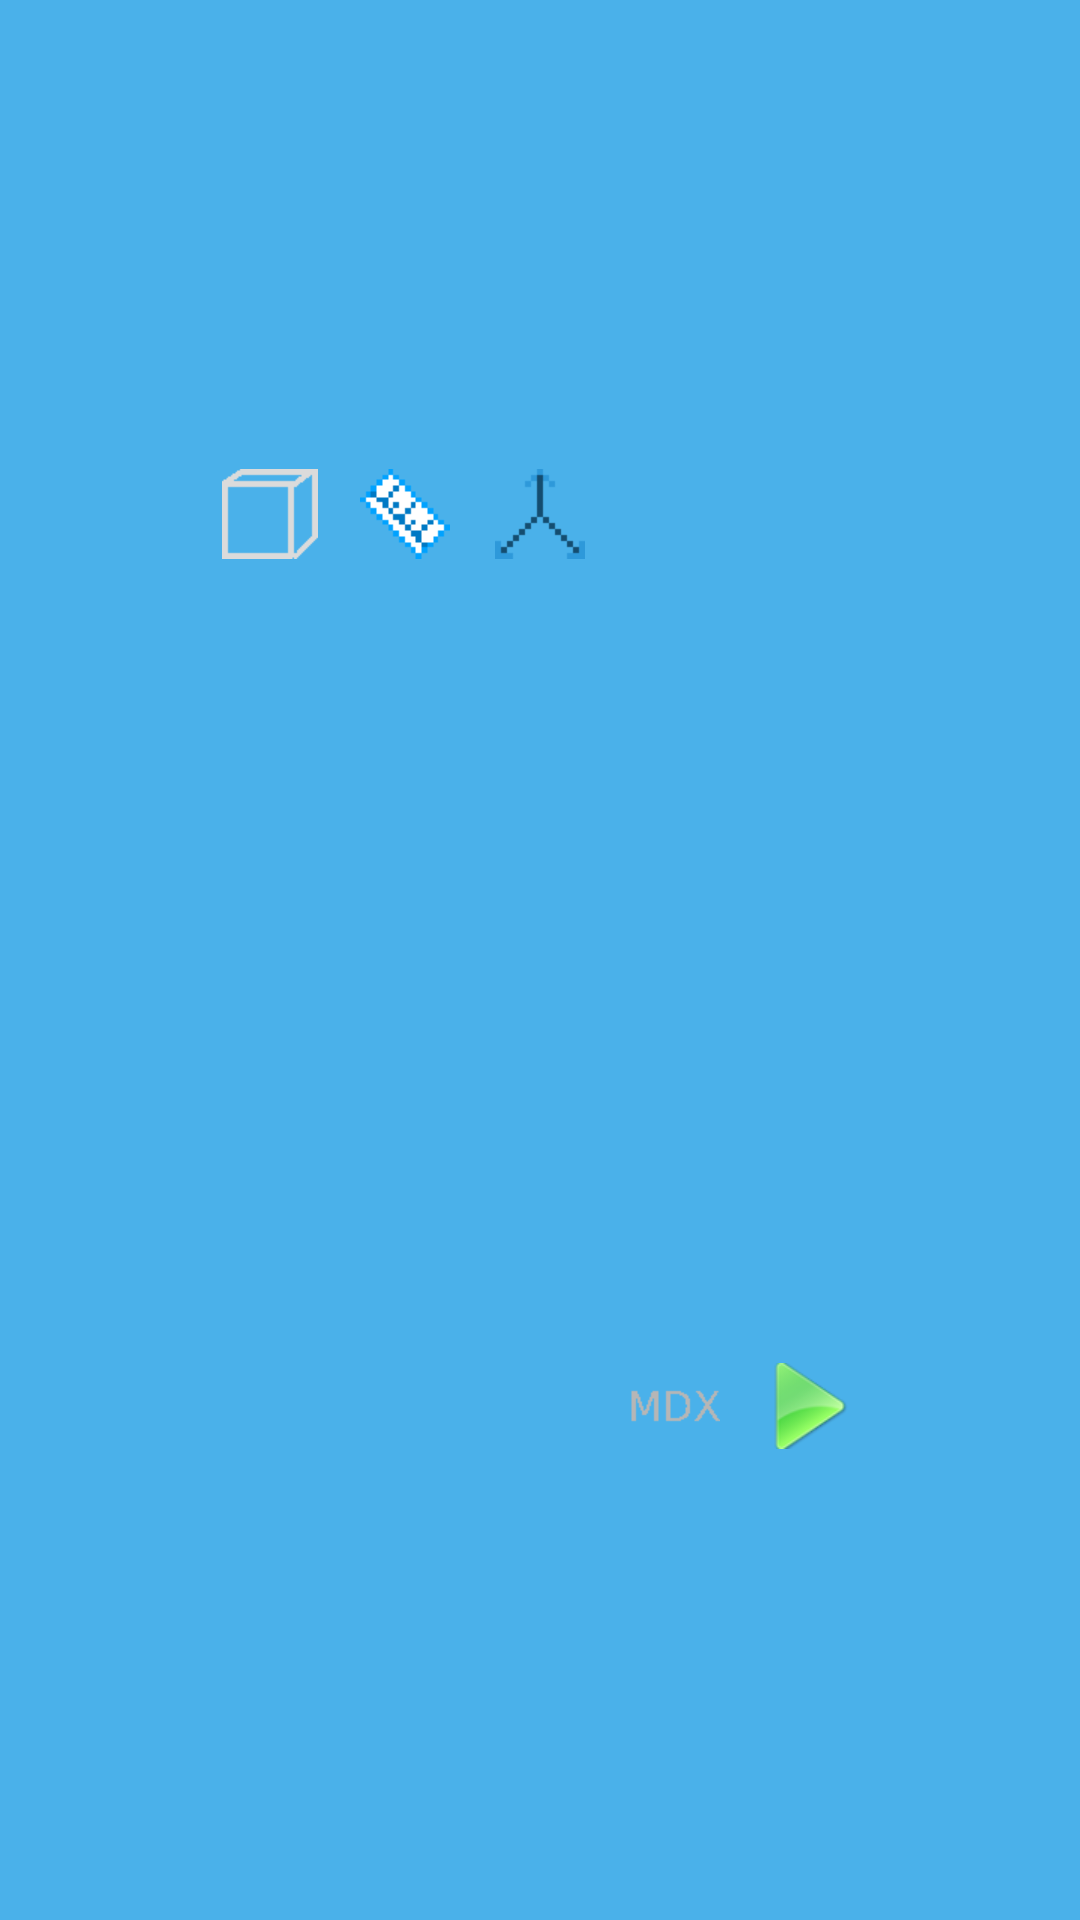

Named icons in this screenshot (1080w x 1920h) and their centers, point (x, y):
cube: point (270, 514)
dimension: point (540, 514)
measure: point (405, 514)
play: point (810, 1406)
